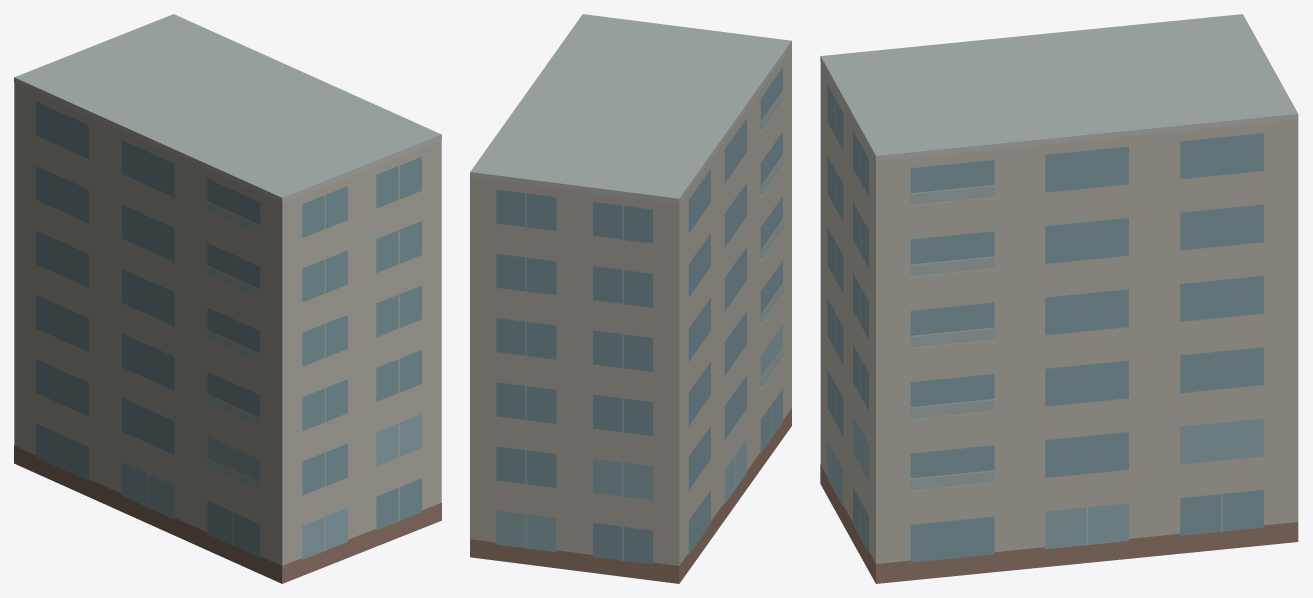
Rendered from survey-upis-32631206.glb.
3 views of the same model, side by side, from view 1: azimuth 30°, elevation 25°; view 2: azimuth 150°, elevation 25°; view 3: azimuth 270°, elevation 25° (orthographic). The views are drawn at different scales.
Visible parts, largest first — view 1: survey-upis-32631206.tmp; view 2: survey-upis-32631206.tmp; view 3: survey-upis-32631206.tmp.
Boxes of the visible parts, x1,y1,x2,y2 form: survey-upis-32631206.tmp: (14, 14, 441, 583); survey-upis-32631206.tmp: (470, 14, 791, 583); survey-upis-32631206.tmp: (820, 14, 1298, 583).
Bounding box in the file's own units: 13.02 × 18.3 × 18.52.
